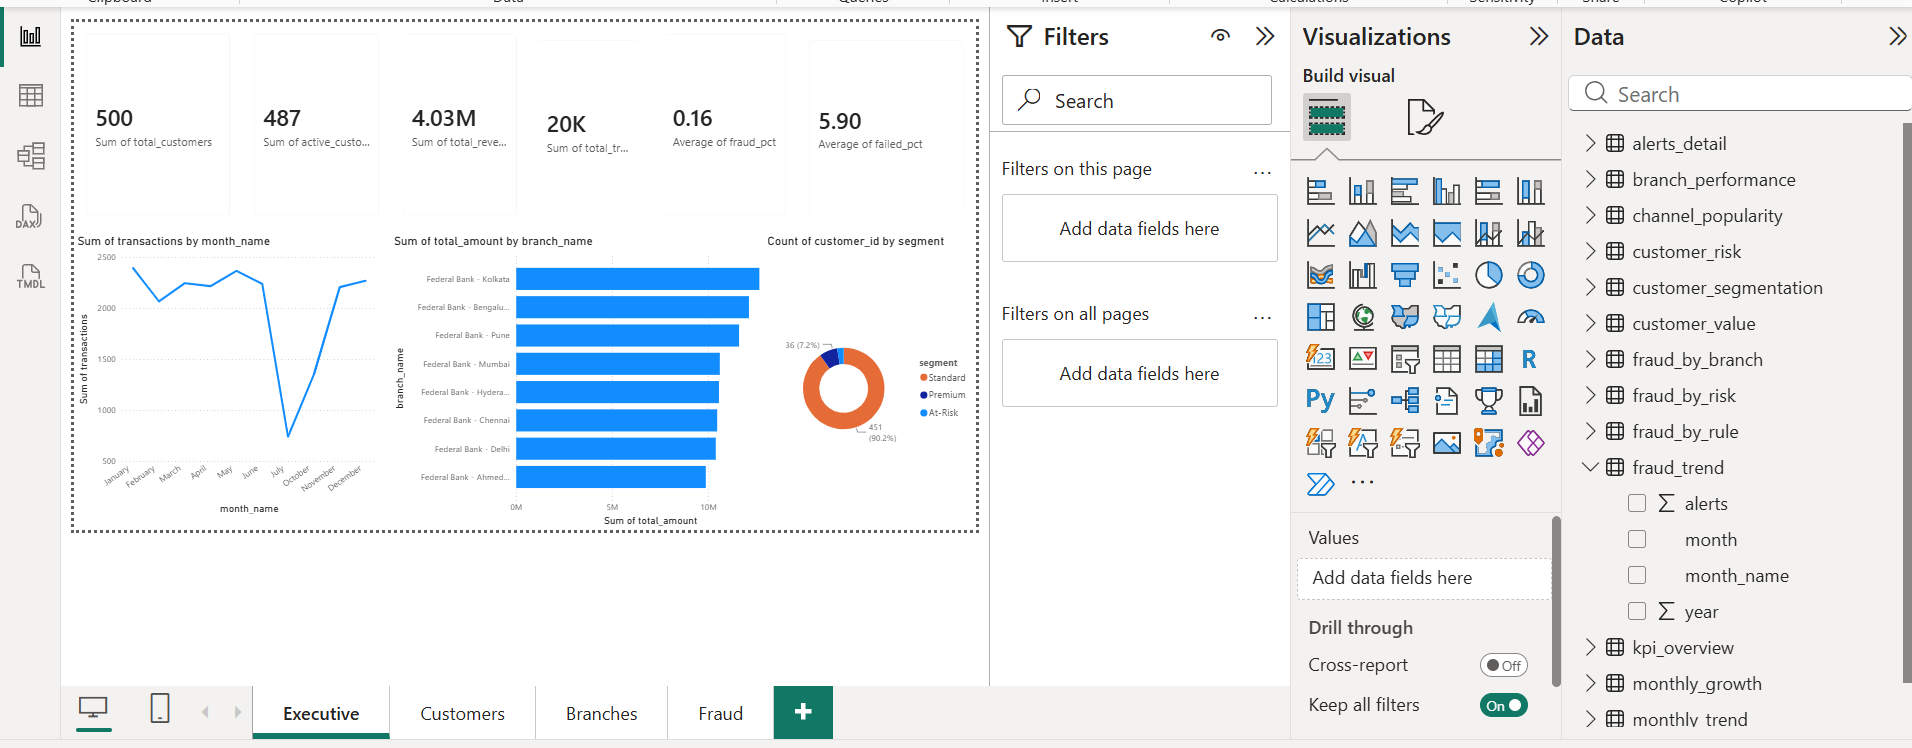

Layout of this report page (visuals, bound fields, positions):
{"tool":"powerbi","page":{"name":"Executive","canvas":[1280,720],"ordinal":0},"visuals":[{"type":"cardVisual","fields":{"Data":["Sum(kpi_overview.active_customers_30d)","Sum(kpi_overview.active_customers_30d)"]},"box":[238.1,0,211.7,291],"z":0},{"type":"cardVisual","fields":{"Data":["Sum(kpi_overview.total_revenue_est)"]},"box":[449.8,0,196.5,291],"z":1000},{"type":"cardVisual","fields":{"Data":["Sum(kpi_overview.total_customers)"]},"box":[0,0,238.1,291],"z":2000},{"type":"cardVisual","fields":{"Data":["Sum(kpi_overview.total_transactions)"]},"box":[640.6,9.4,177.6,291],"z":3000},{"type":"cardVisual","fields":{"Data":["Avg(kpi_overview.failed_pct)"]},"box":[1026.1,9.4,253.2,281.6],"z":4000},{"type":"cardVisual","fields":{"Data":["Avg(kpi_overview.fraud_pct)"]},"box":[818.3,0,207.9,291],"z":5000},{"type":"lineChart","fields":{"Category":["monthly_trend.month_name"],"Y":["Sum(monthly_trend.transactions)"]},"box":[0,300.5,432.8,402.5],"z":6000},{"type":"clusteredBarChart","fields":{"Category":["branch_performance.branch_name"],"Y":["Sum(branch_performance.total_amount)"]},"box":[449.8,300.5,576.4,419.5],"z":7000},{"type":"donutChart","fields":{"Category":["customer_segmentation.segment"],"Y":["CountNonNull(customer_segmentation.customer_id)"]},"box":[978.9,300.5,300.5,419.5],"z":8000}]}

Visuals, with their boxes on the page's 1280x720 design canvas (x1, y1, x2, y2). These are canvas units, not pixel positions in the 1912x748 screenshot, which may show the page scaled, cropped or inside an application window:
cardVisual - Sum(kpi_overview.active_customers_30d) x Sum(kpi_overview.active_customers_30d): [238,0,450,291]
cardVisual - Sum(kpi_overview.total_revenue_est): [450,0,646,291]
cardVisual - Sum(kpi_overview.total_customers): [0,0,238,291]
cardVisual - Sum(kpi_overview.total_transactions): [641,9,818,300]
cardVisual - Avg(kpi_overview.failed_pct): [1026,9,1279,291]
cardVisual - Avg(kpi_overview.fraud_pct): [818,0,1026,291]
lineChart - monthly_trend.month_name x Sum(monthly_trend.transactions): [0,300,433,703]
clusteredBarChart - branch_performance.branch_name x Sum(branch_performance.total_amount): [450,300,1026,720]
donutChart - customer_segmentation.segment x CountNonNull(customer_segmentation.customer_id): [979,300,1279,720]
